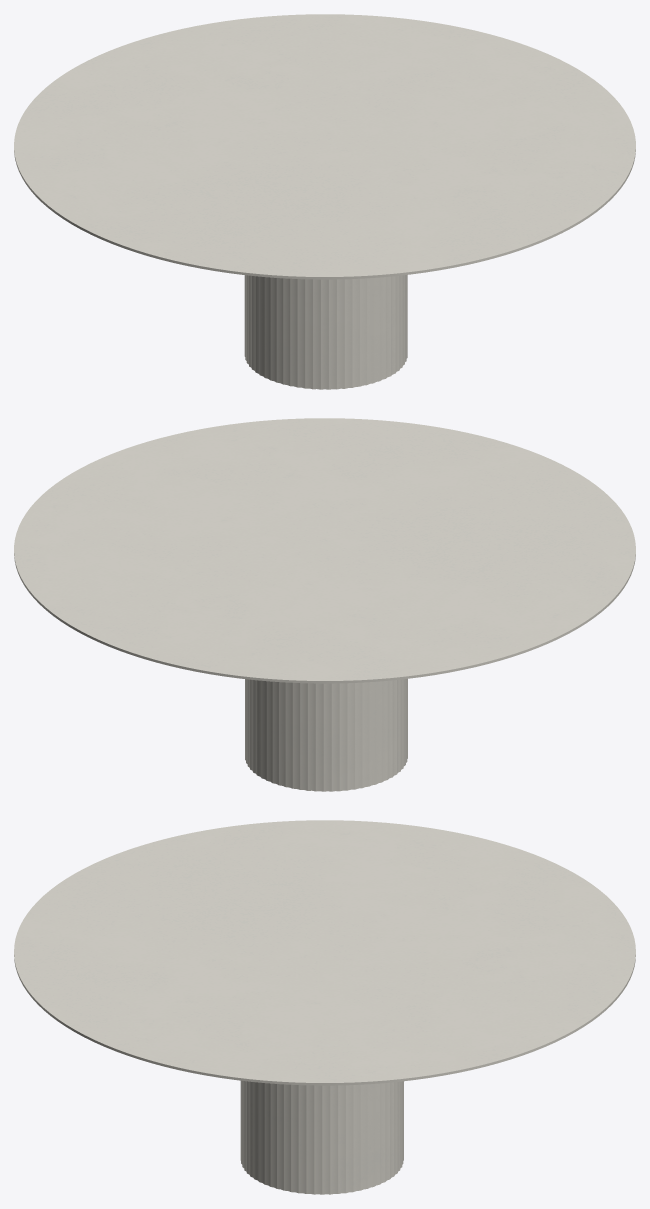
The model's file is pale_round_facet_ripple.glb.
3 views of the same model, one above another, from view 1: azimuth 30°, elevation 25°; view 2: azimuth 150°, elevation 25°; view 3: azimuth 270°, elevation 25° (orthographic).
Visible parts, largest first — view 1: facet_round, ripple; view 2: facet_round, ripple; view 3: facet_round, ripple.
Boxes of the visible parts, bbox=[...] form: facet_round: bbox=[14, 14, 635, 279]; ripple: bbox=[244, 275, 407, 389]; facet_round: bbox=[14, 418, 635, 683]; ripple: bbox=[245, 679, 407, 791]; facet_round: bbox=[14, 820, 635, 1085]; ripple: bbox=[240, 1080, 403, 1194].
Bounding box in the file's own units: 6.75 × 2.5 × 6.75.
Materials: 1 (1 with a texture image).
